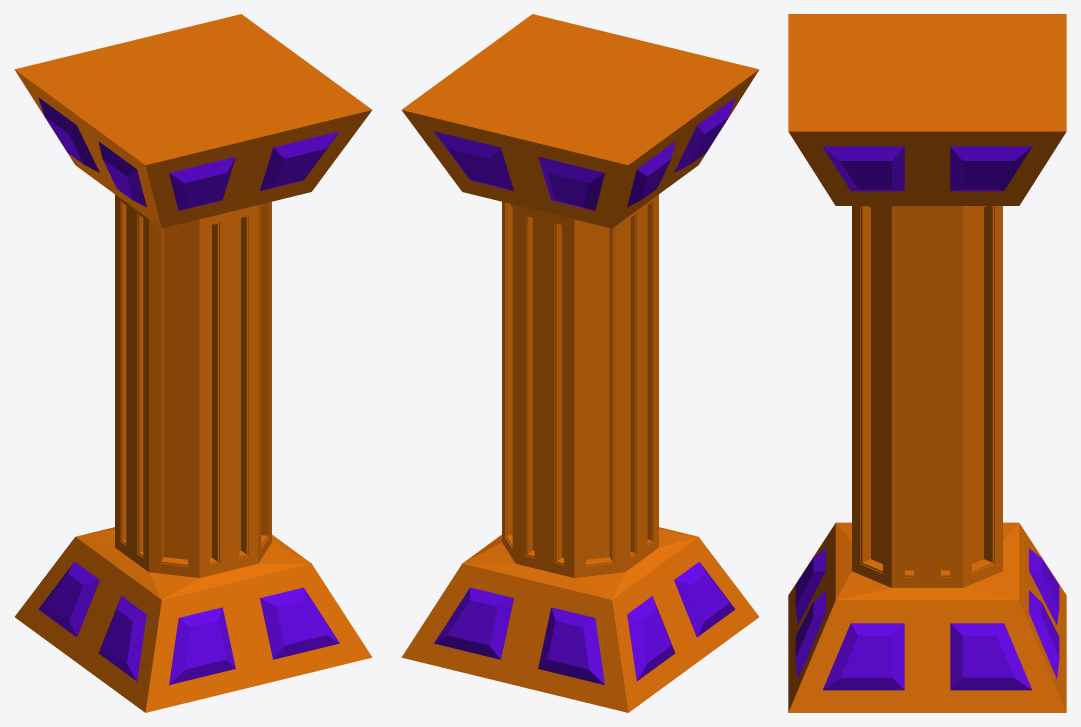
Rendered from PillarUVID.fbx.
3 views of the same model, side by side, from view 1: azimuth 30°, elevation 25°; view 2: azimuth 150°, elevation 25°; view 3: azimuth 270°, elevation 25° (orthographic). The views are drawn at different scales.
Visible parts, largest first — view 1: Cube; view 2: Cube; view 3: Cube.
Part boxes in pixels (bbox=[...]): Cube: bbox=[14, 14, 372, 712]; Cube: bbox=[401, 14, 759, 712]; Cube: bbox=[788, 14, 1066, 712].
Bounding box in the file's own units: 303 × 698 × 303.
